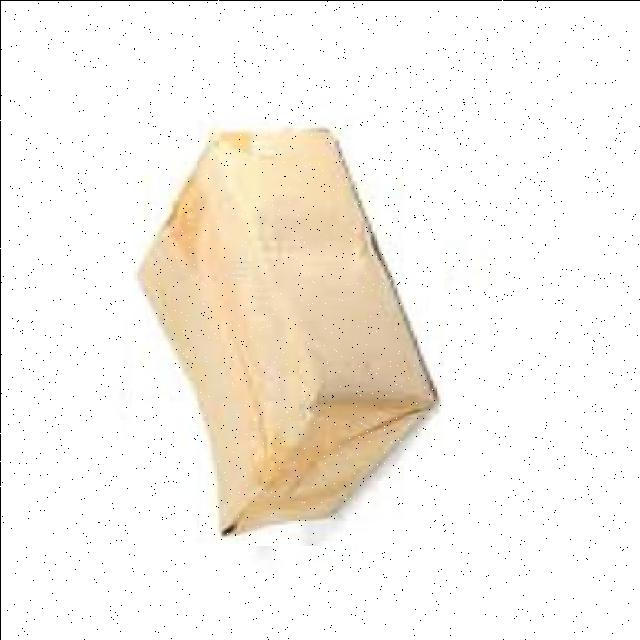normal: (132, 118, 443, 544)
